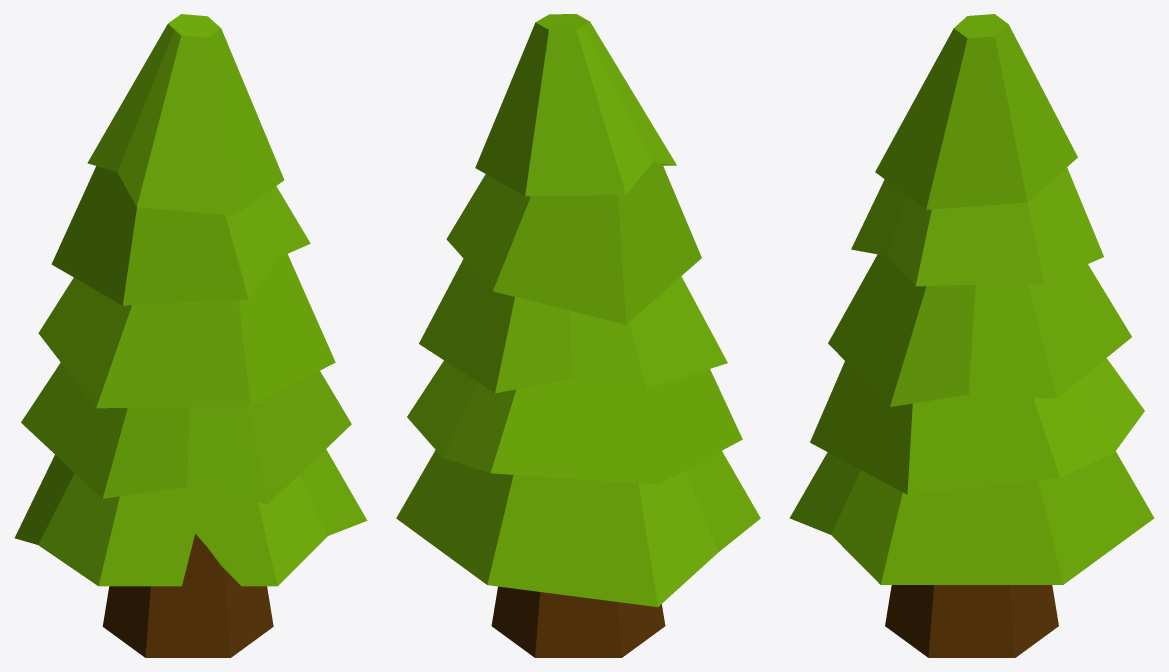
Rendered from Tree04.fbx.
3 views of the same model, side by side, from view 1: azimuth 30°, elevation 25°; view 2: azimuth 150°, elevation 25°; view 3: azimuth 270°, elevation 25° (orthographic).
Visible parts, largest first — view 1: t4m, t4k; view 2: t4m, t4k; view 3: t4m, t4k.
Boxes of the visible parts, x1,y1,x2,y2 form: t4m: [15, 14, 367, 586]; t4k: [102, 534, 273, 657]; t4m: [396, 14, 760, 606]; t4k: [491, 586, 665, 657]; t4m: [790, 14, 1154, 584]; t4k: [885, 585, 1058, 657].
Bounding box in the file's own units: 376 × 771 × 420.
